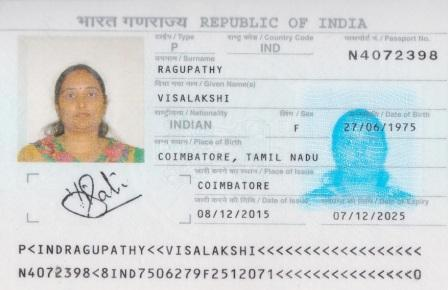DOB: (338, 120, 428, 135)
Surname: (157, 62, 223, 76)
country_code: (259, 39, 287, 55)
date_of_expiry: (325, 206, 420, 225)
date_of_issue: (194, 207, 291, 222)
details: (13, 241, 431, 289)
name: (154, 90, 233, 103)
nationality: (163, 116, 227, 132)
passport_no: (343, 47, 436, 63)
photo: (18, 34, 144, 161)
place_of_birth: (155, 150, 321, 163)
place_of_issue: (196, 178, 277, 191)
sex: (293, 123, 302, 133)
sign: (64, 171, 132, 219)
type: (169, 40, 187, 54)
